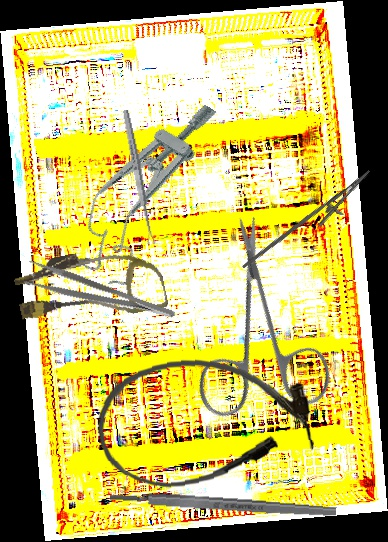Cannula: (92, 350, 317, 494), (11, 236, 169, 337)
Dressing Forceps: (20, 257, 179, 334)
Iris Scissors: (133, 209, 385, 462)
Needle Holder: (241, 156, 379, 291)
Scalpel Handle: (109, 489, 337, 520)
Speculum: (59, 81, 230, 292)
Surgical Spoon: (121, 109, 156, 246)
